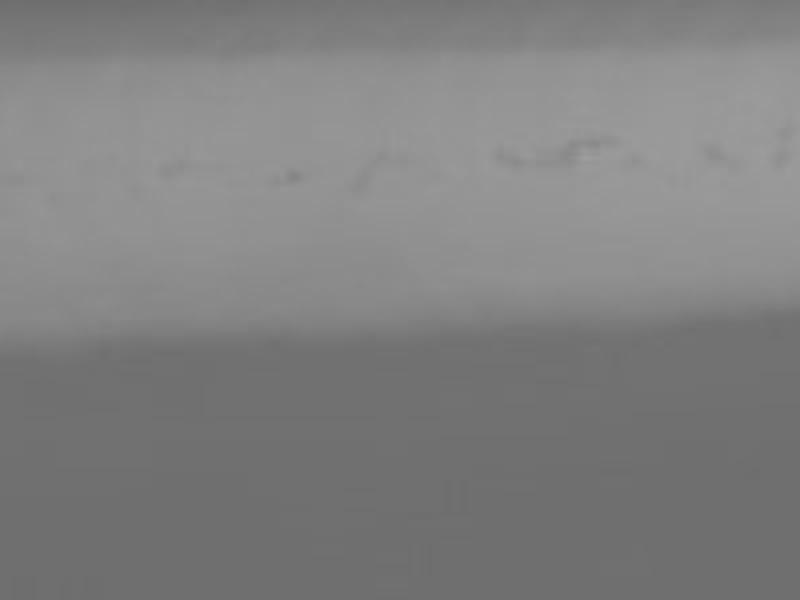defect: (552, 139, 584, 178), (491, 138, 525, 173), (695, 137, 723, 169), (164, 153, 192, 179), (765, 145, 791, 171), (583, 134, 619, 151), (354, 164, 373, 195), (625, 149, 646, 169), (280, 168, 303, 186), (777, 124, 798, 138)
